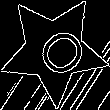O_SW: (22, 17, 86, 83)
